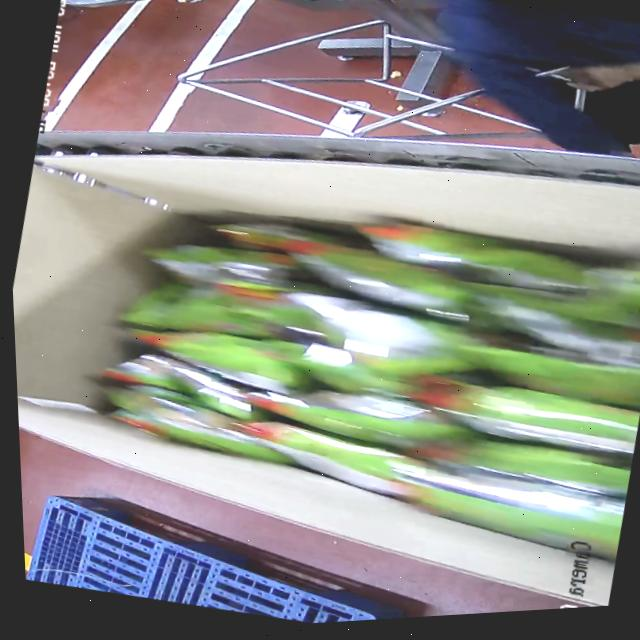YOGURT_HERB: (75, 151, 640, 585)
